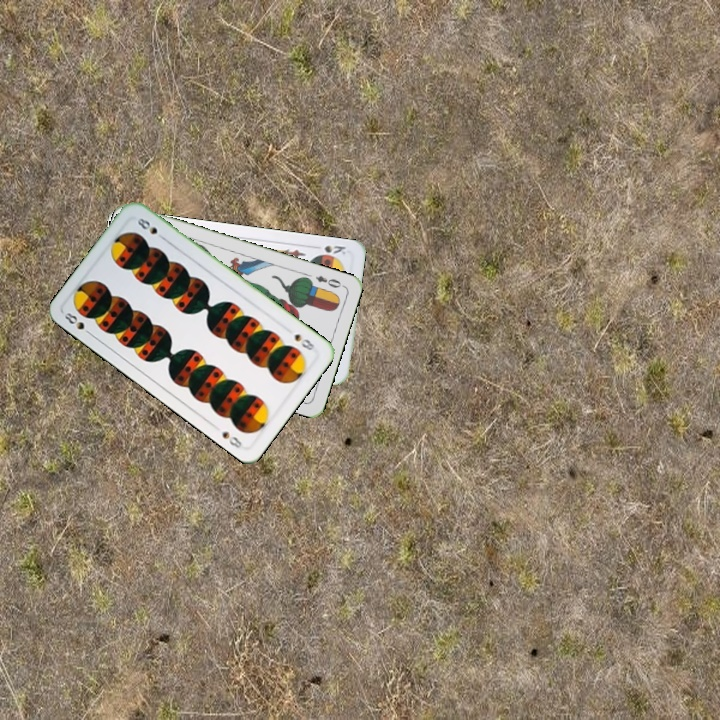EO: (312, 271, 346, 290)
S8: (60, 308, 95, 339), (290, 330, 319, 353)
SK: (320, 241, 348, 258)
